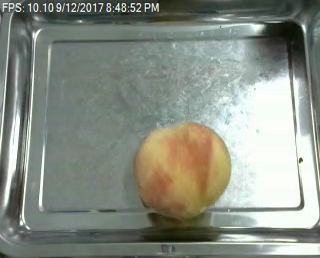Peach: (134, 121, 232, 218)
